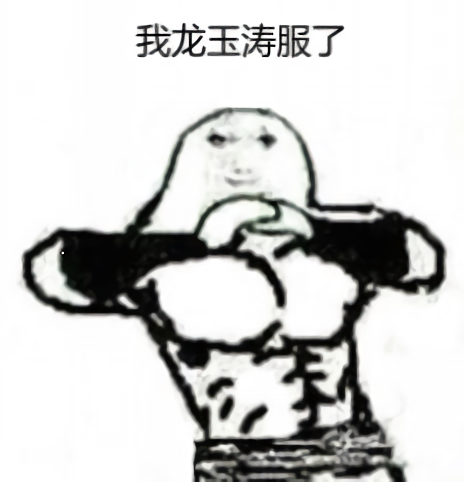dragon: (206, 124, 280, 191)
